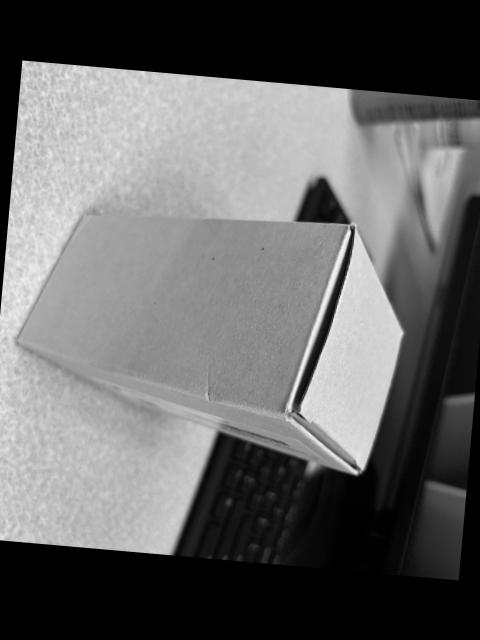CameraBox1: (12, 211, 402, 475)
